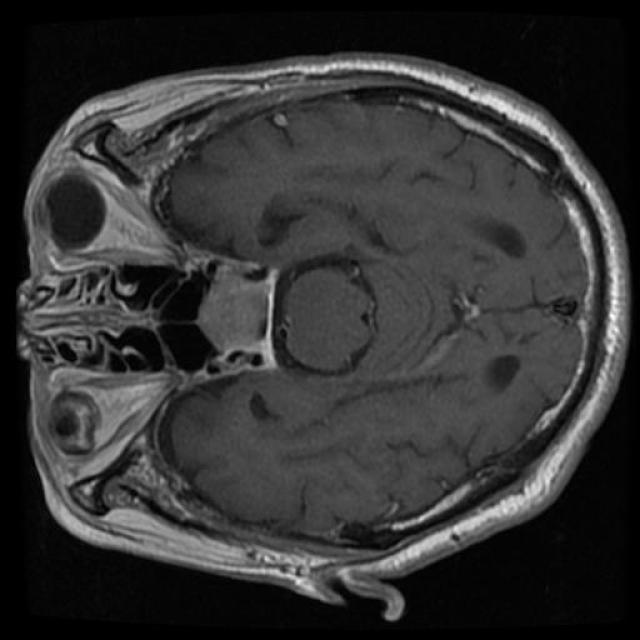Pituitary: (196, 268, 274, 351)
